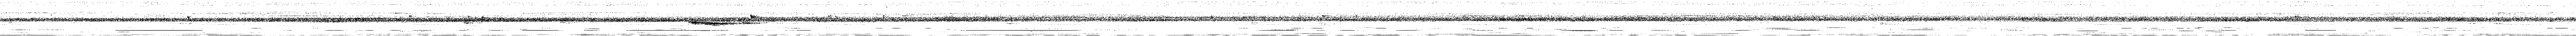meteor: (690, 21, 759, 26)
